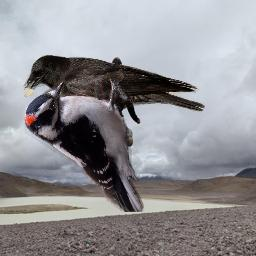Crow: (21, 54, 205, 143)
Woodpecker: (22, 79, 144, 212)
